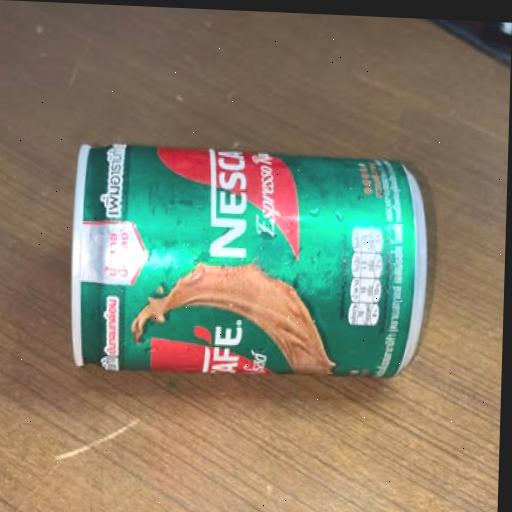bottle: (59, 131, 437, 406)
